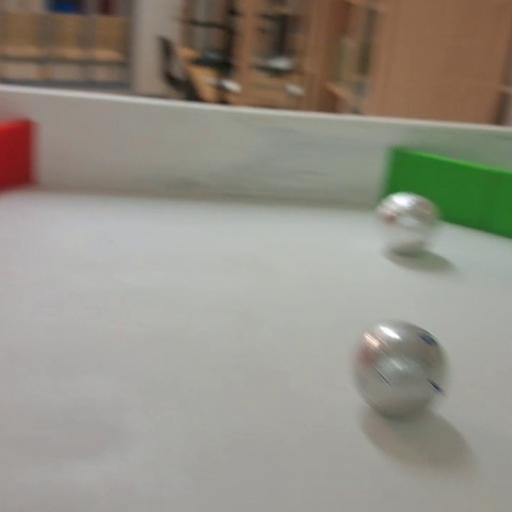alive: (351, 320, 447, 419), (376, 191, 440, 254)
